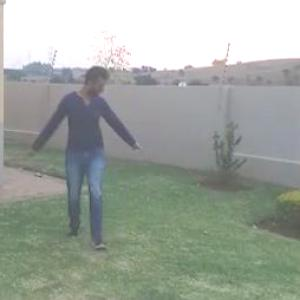land: (12, 59, 164, 263)
